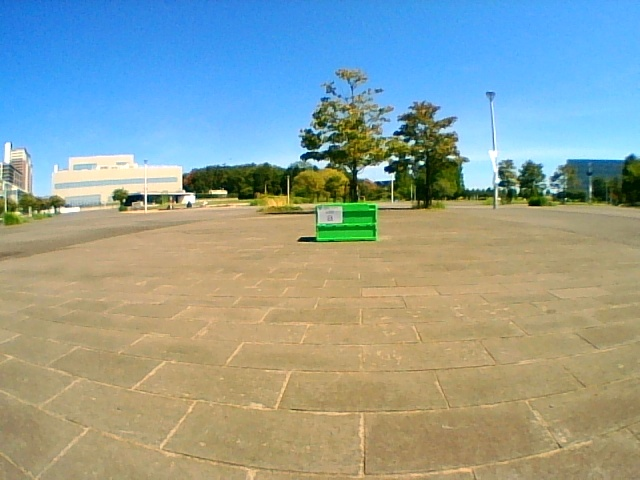green_box: (317, 203, 376, 241)
tag: (317, 208, 342, 223)
